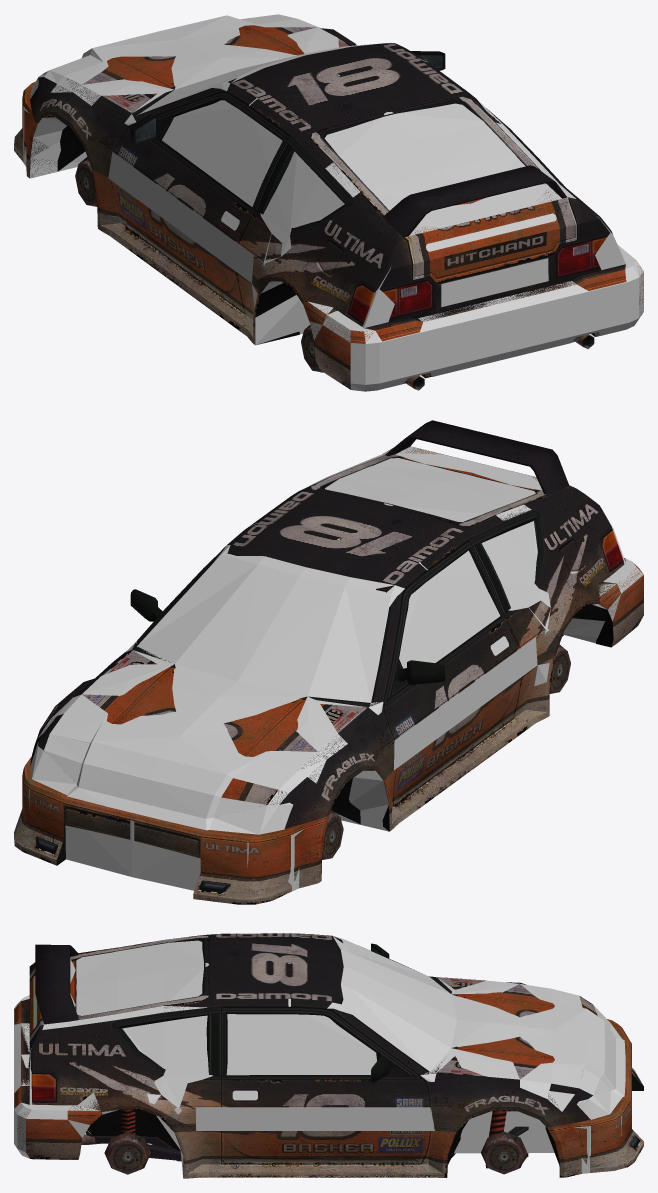
File: body.glb
3 renders of one model, top to bottom at view 1: azimuth 30°, elevation 25°; view 2: azimuth 150°, elevation 25°; view 3: azimuth 270°, elevation 25°, orthographic. The views are drawn at different scales.
Parts seen in each view (by area): view 1: body_shadow, Surface48, Surface25, Surface30, Surface18, Surface33, hood, part_11_spoiler, Surface53, Surface14, Surface47, wheelhub_fl (+5 smaller); view 2: body_shadow, Surface48, Surface14, Surface25, hood, Surface18, part_11_spoiler, Surface30, Surface33, part_9_mirror_l, Surface20, wheelhub_fl (+1 smaller); view 3: body_shadow, Surface48, Surface27, Surface20, Surface14, hood, Surface33, part_11_spoiler, Surface30, Surface47, wheelhub_fr, wheelhub_rr (+3 smaller).
Boxes of the visible parts, x1=… form: body_shadow: x1=23, y1=14, x2=643, y2=391; Surface48: x1=110, y1=43, x2=612, y2=344; Surface25: x1=110, y1=91, x2=289, y2=313; Surface30: x1=310, y1=96, x2=576, y2=283; Surface18: x1=30, y1=72, x2=131, y2=235; Surface33: x1=303, y1=264, x2=643, y2=389; hood: x1=82, y1=25, x2=350, y2=113; part_11_spoiler: x1=383, y1=165, x2=567, y2=237; Surface53: x1=348, y1=285, x2=432, y2=322; Surface14: x1=14, y1=81, x2=37, y2=178; Surface47: x1=255, y1=281, x2=299, y2=344; wheelhub_fl: x1=75, y1=157, x2=97, y2=206; body_shadow: x1=29, y1=446, x2=643, y2=891; Surface48: x1=132, y1=448, x2=624, y2=822; Surface14: x1=14, y1=757, x2=329, y2=904; Surface25: x1=383, y1=540, x2=522, y2=806; hood: x1=44, y1=650, x2=367, y2=806; Surface18: x1=268, y1=707, x2=398, y2=831; part_11_spoiler: x1=385, y1=420, x2=568, y2=495; Surface30: x1=310, y1=446, x2=546, y2=526; Surface33: x1=599, y1=558, x2=643, y2=647; part_9_mirror_l: x1=396, y1=660, x2=445, y2=685; Surface20: x1=30, y1=650, x2=130, y2=766; wheelhub_fl: x1=322, y1=810, x2=343, y2=859; body_shadow: x1=14, y1=936, x2=625, y2=1177; Surface48: x1=29, y1=933, x2=456, y2=1178; Surface27: x1=221, y1=1007, x2=430, y2=1164; Surface20: x1=422, y1=1073, x2=592, y2=1177; Surface14: x1=547, y1=1019, x2=643, y2=1177; hood: x1=437, y1=977, x2=597, y2=1079; Surface33: x1=14, y1=999, x2=102, y2=1159; part_11_spoiler: x1=35, y1=944, x2=78, y2=1024; Surface30: x1=29, y1=935, x2=208, y2=1041; Surface47: x1=87, y1=1109, x2=180, y2=1150; wheelhub_fr: x1=481, y1=1131, x2=527, y2=1174; wheelhub_rr: x1=104, y1=1132, x2=150, y2=1174.
Bounding box in the file's own units: 1.81 × 1.16 × 3.8.
